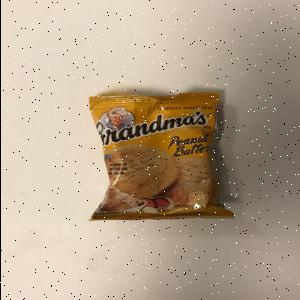Trash: (89, 91, 237, 221)
